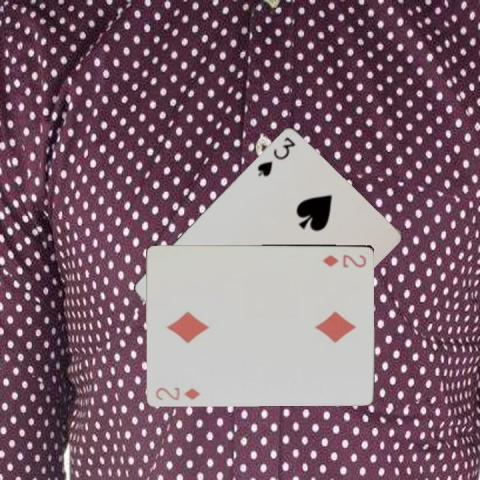2d: (321, 251, 368, 269), (153, 384, 202, 401)
3s: (254, 134, 297, 178)
